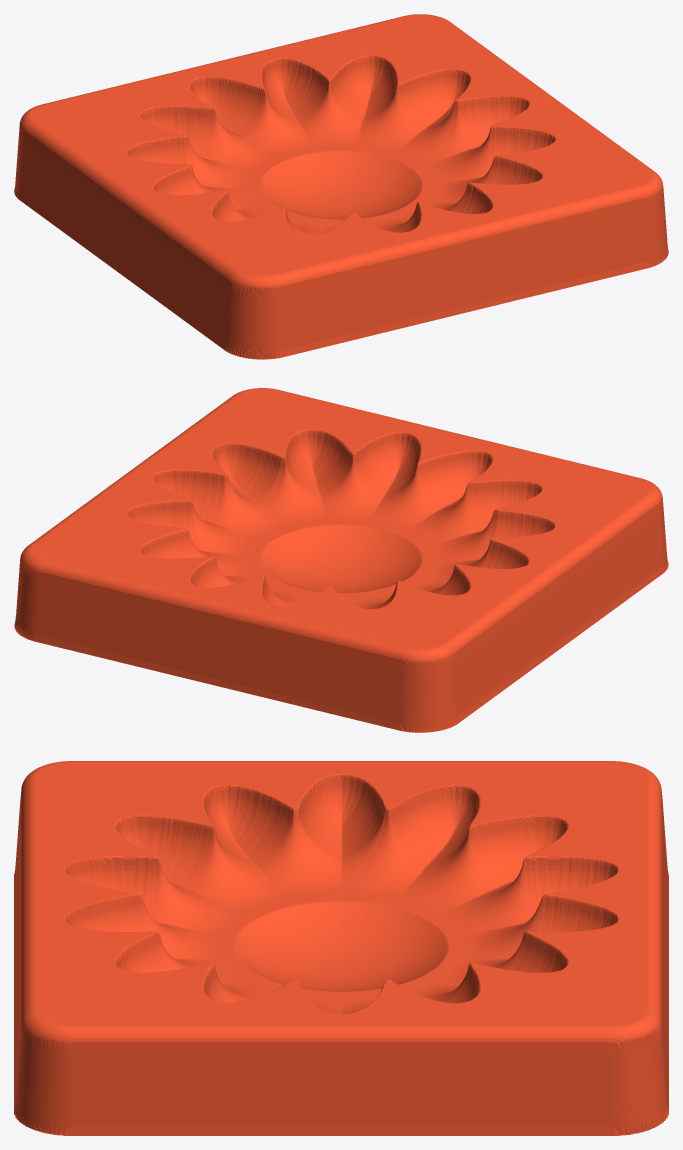
Rendered from mold.glb.
3 renders of one model, top to bottom at view 1: azimuth 30°, elevation 25°; view 2: azimuth 150°, elevation 25°; view 3: azimuth 270°, elevation 25°, orthographic. The views are drawn at different scales.
Parts seen in each view (by area): view 1: geometry_0; view 2: geometry_0; view 3: geometry_0.
Part boxes in pixels (x1,y1,x2,y2): geometry_0: [14, 14, 668, 359]; geometry_0: [14, 388, 668, 732]; geometry_0: [14, 761, 668, 1135].
Bounding box in the file's own units: 0.105 × 0.0175 × 0.103.
